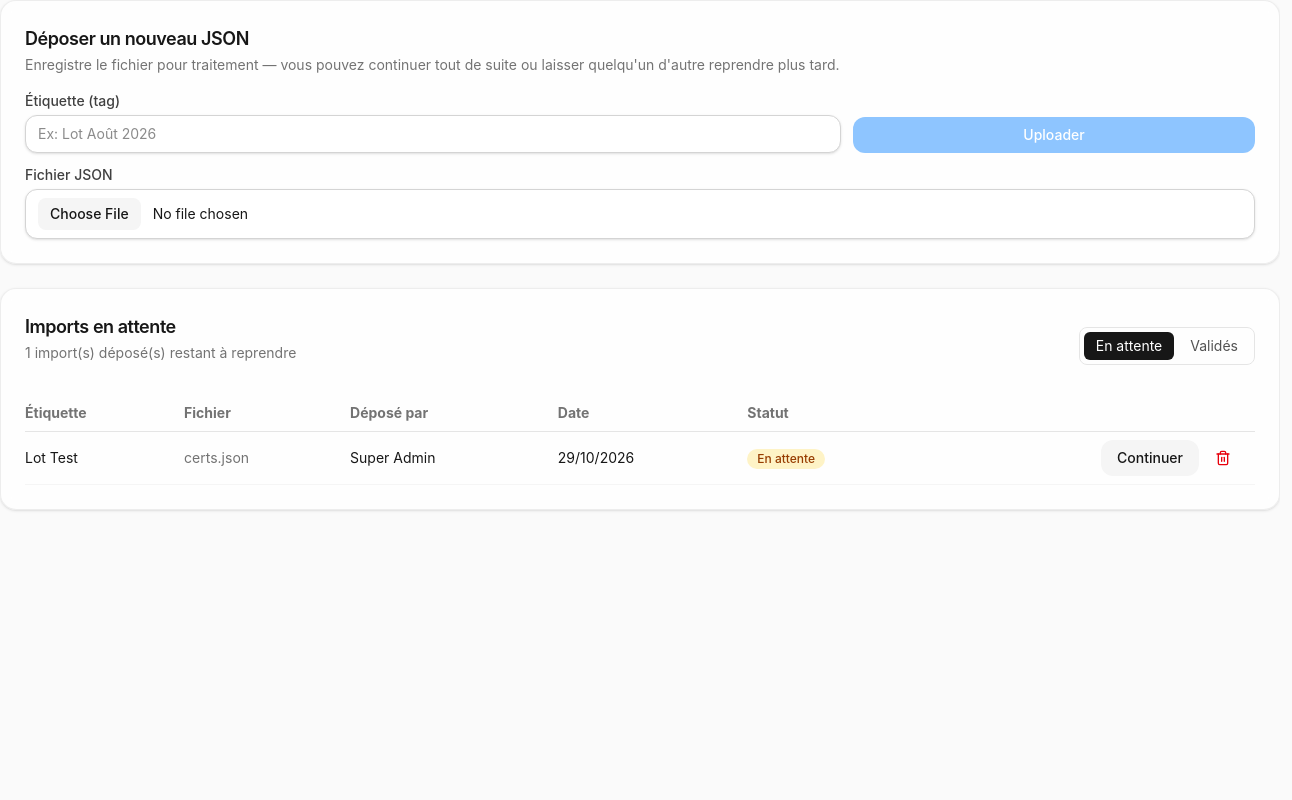
Scenario: ImportPage › auto-saves the draft shortly after an edit, and reflects it in the status text
Expected: the text "Lot Test" is shown, [25,432,184,484]
Click the button "Continuer" at (1150, 458), box [1101,440,1199,476]
(page scrolled)
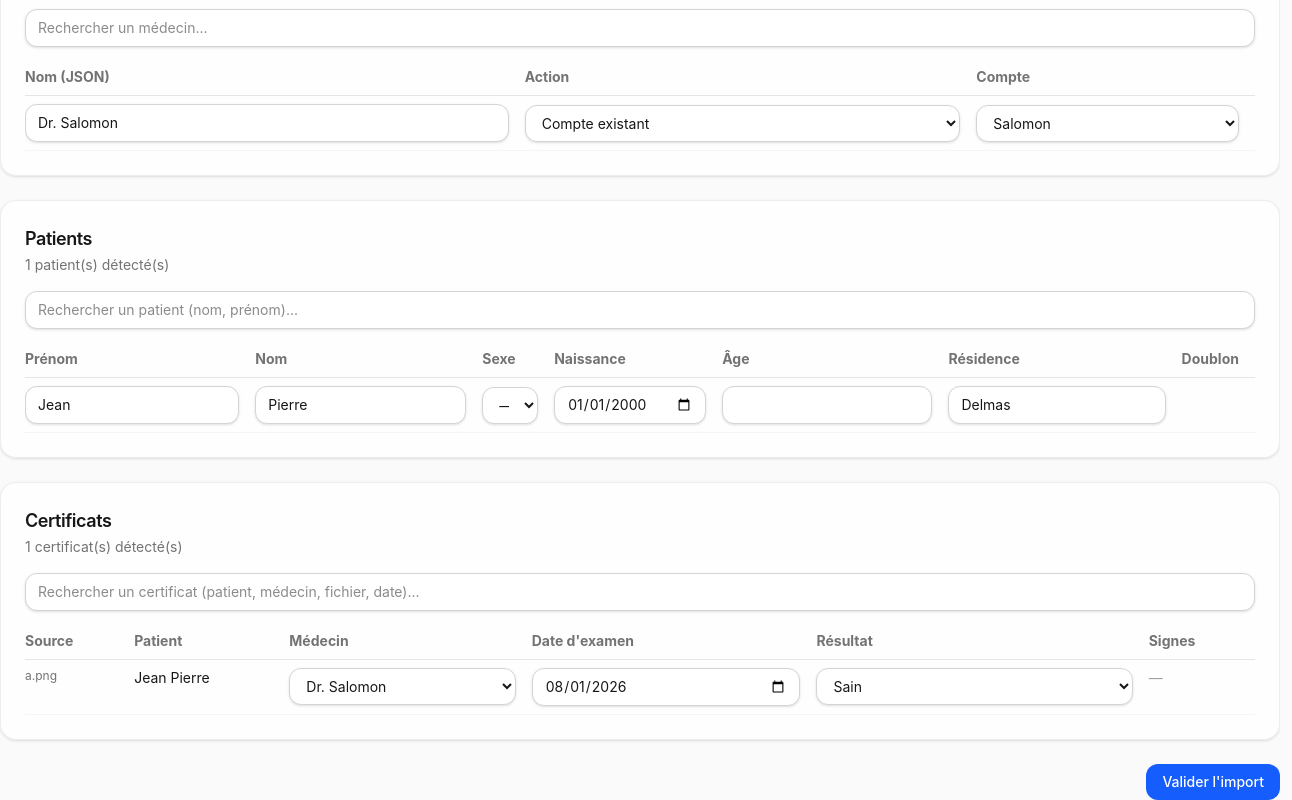
Expected: the heading "Certificats" is shown, [25,510,111,531]
Replace the text in the 2nd field showing "Jean" with "Jeanne" at (132, 405), box [25,386,239,424]
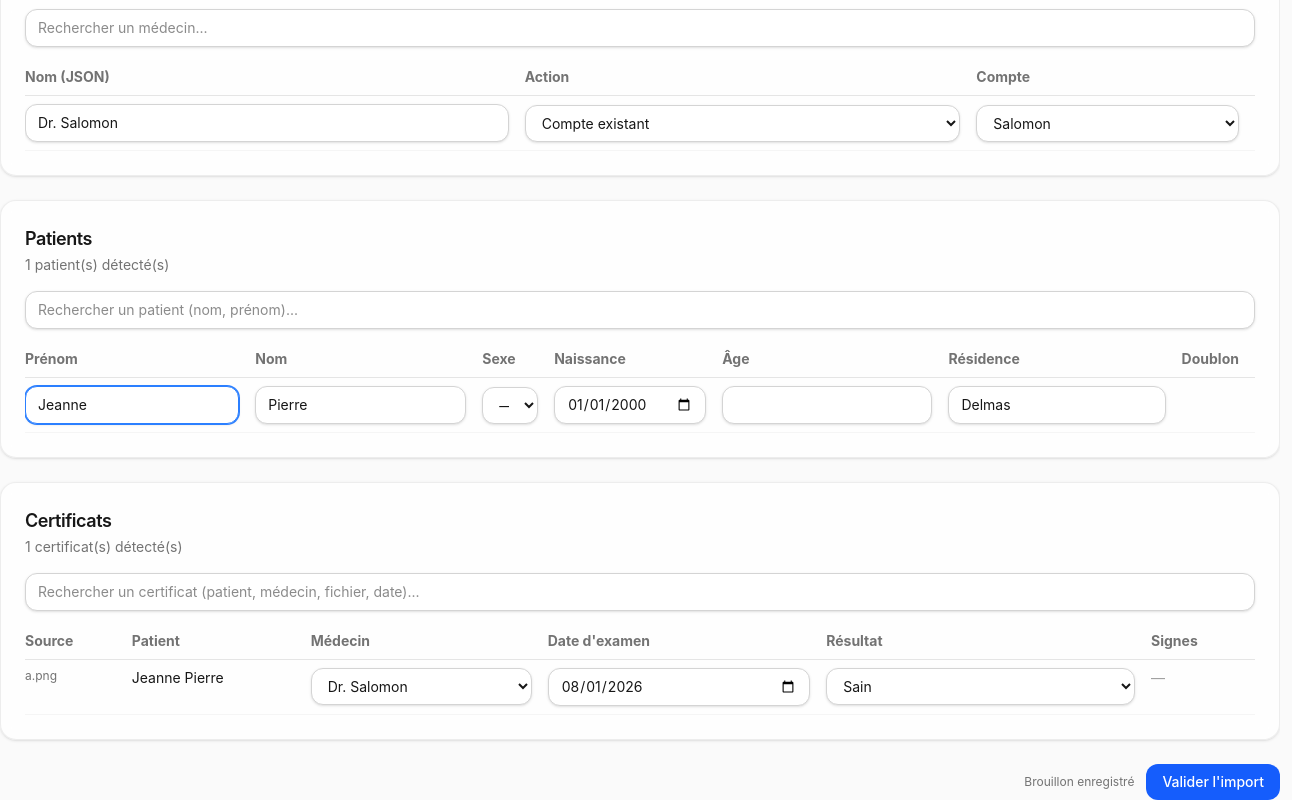
Expected: the text "Brouillon enregistré" is shown, [1024,774,1134,790]
